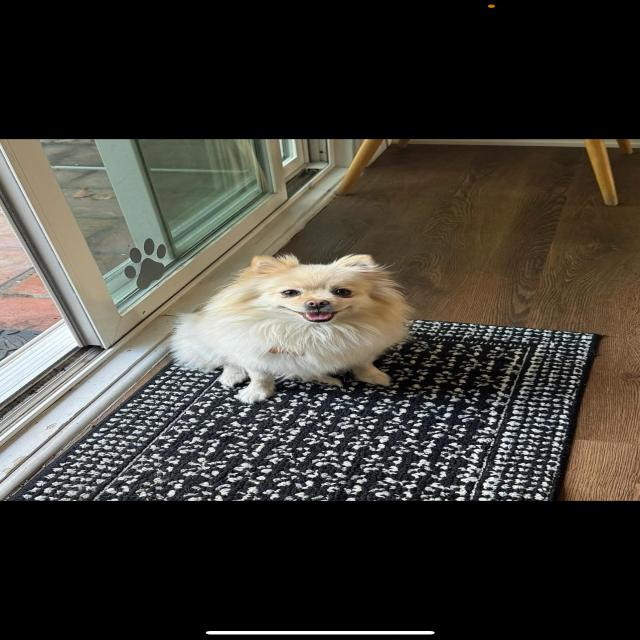pomeranian_dog: (210, 248, 426, 336)
